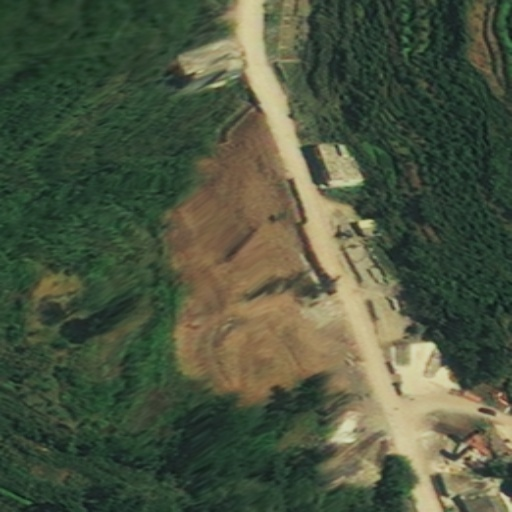landslide: (168, 119, 331, 397)
